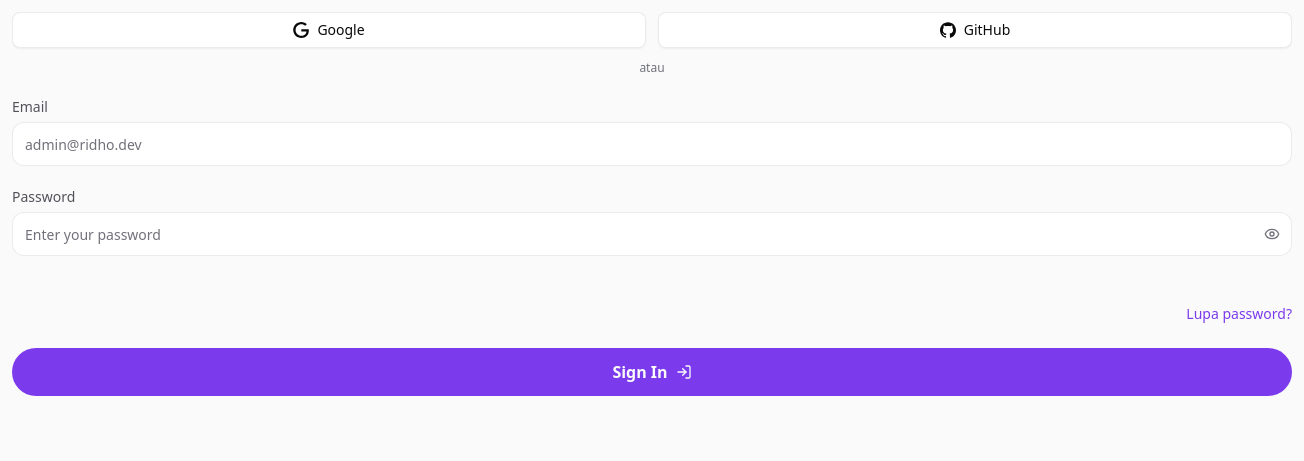
AdminLoginForm › shows validation errors for an invalid submission
Click the button "Sign In". click: (652, 372)
box: [12,348,1292,396]
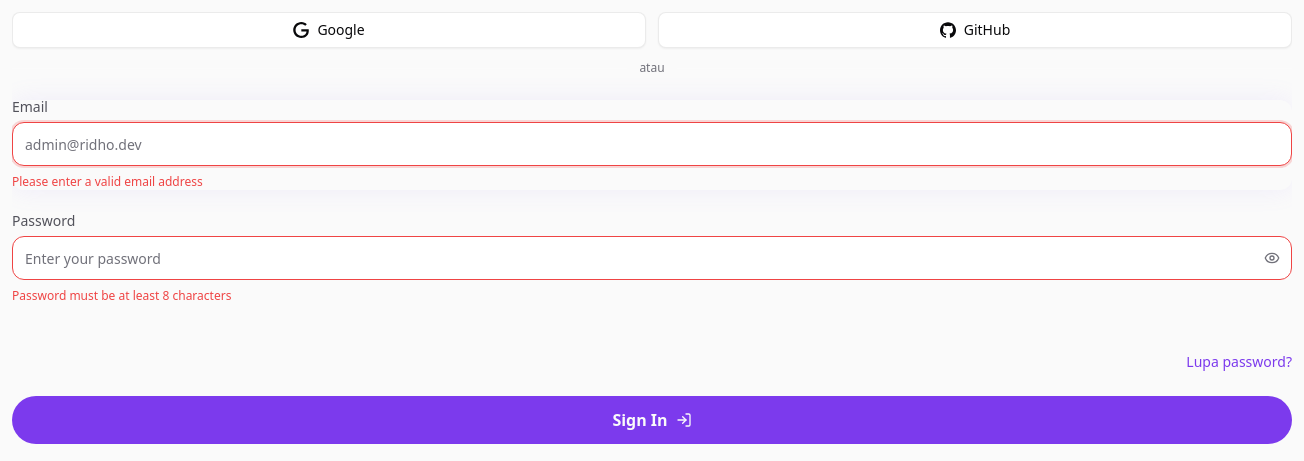
Result: the text "Please enter a valid email address" is shown at [12,173,203,190]
Result: the text "Password must be at least 8 characters" is shown at [12,287,231,304]
